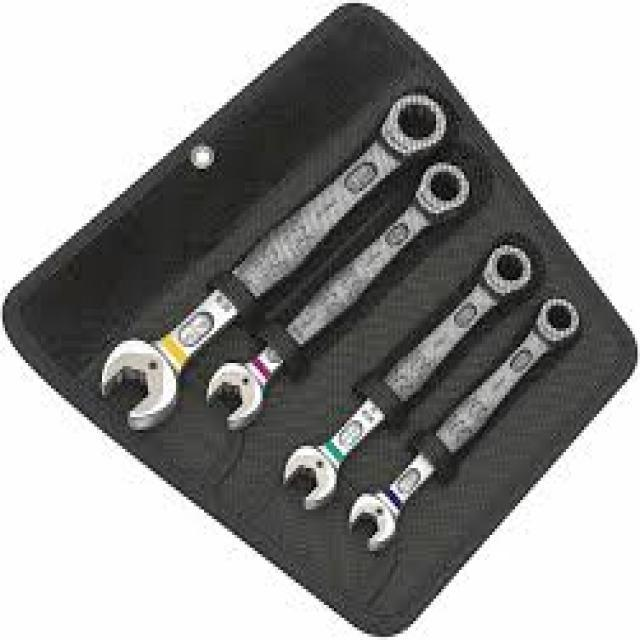wrench: (95, 88, 449, 429), (212, 158, 473, 429), (282, 243, 538, 516), (348, 292, 580, 554)
